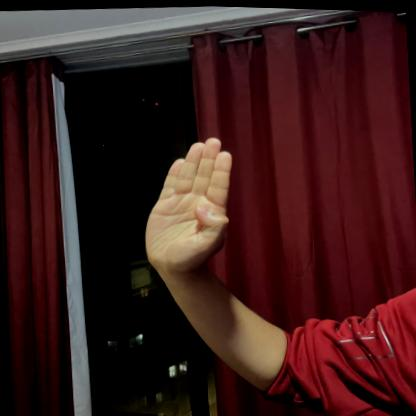B: (136, 127, 245, 276)
